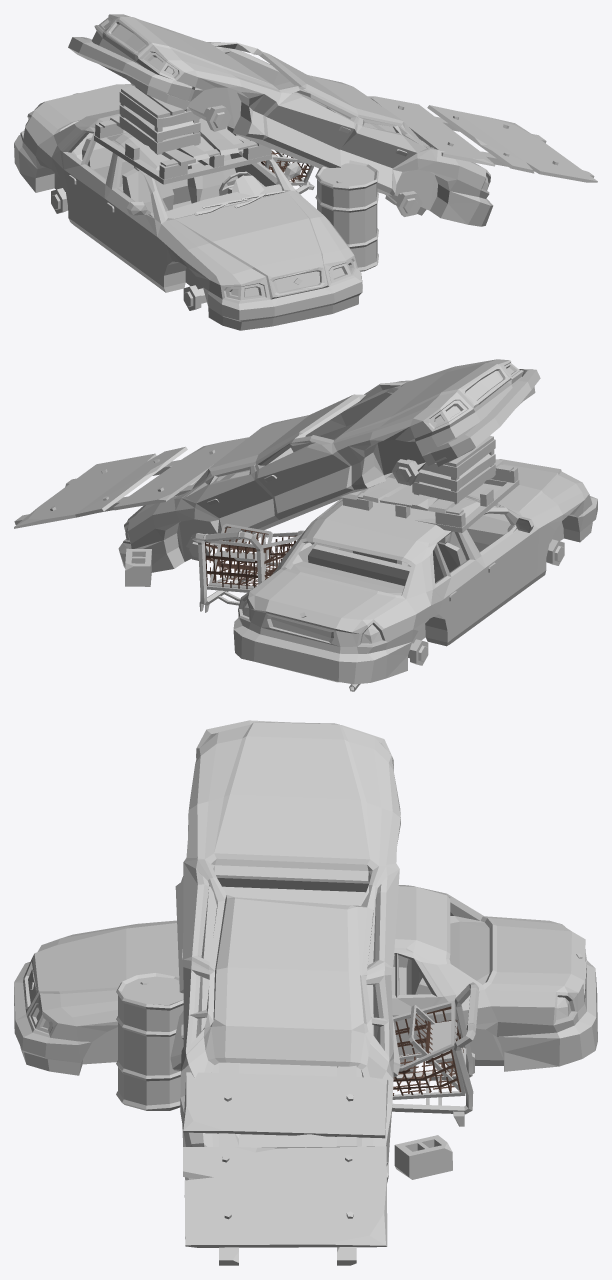
File: SM_Prop_Ramp_01.fbx
3 views of the same model, one above another, from view 1: azimuth 30°, elevation 25°; view 2: azimuth 150°, elevation 25°; view 3: azimuth 270°, elevation 25° (orthographic). The views are drawn at different scales.
Visible parts, largest first — view 1: SM_Prop_Ramp_01; view 2: SM_Prop_Ramp_01; view 3: SM_Prop_Ramp_01.
Part boxes in pixels (left/top/right/bottom): SM_Prop_Ramp_01: left=14, top=14, right=597, bottom=330; SM_Prop_Ramp_01: left=14, top=359, right=597, bottom=691; SM_Prop_Ramp_01: left=14, top=720, right=597, bottom=1265.
Size of what is drawn, in the model's own units: 586 by 302 by 516.
